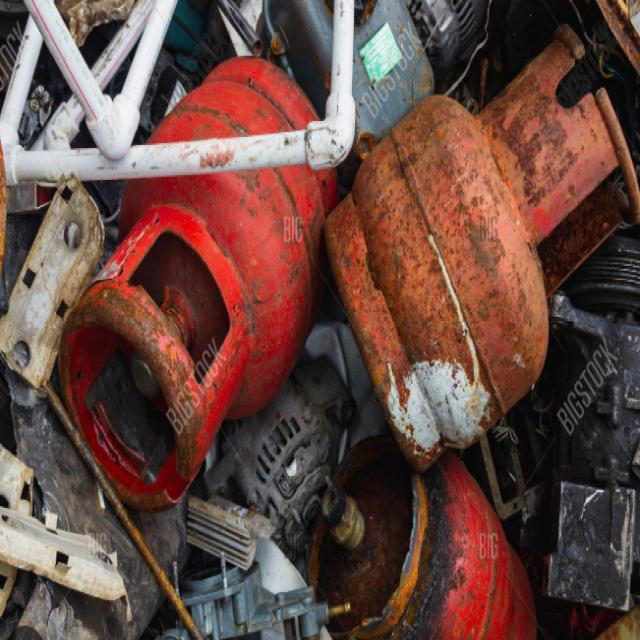cylinder: (326, 24, 639, 472), (58, 56, 338, 513), (307, 436, 537, 638)
